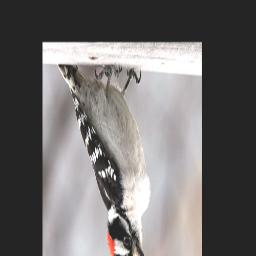Woodpecker: (59, 61, 151, 256)
